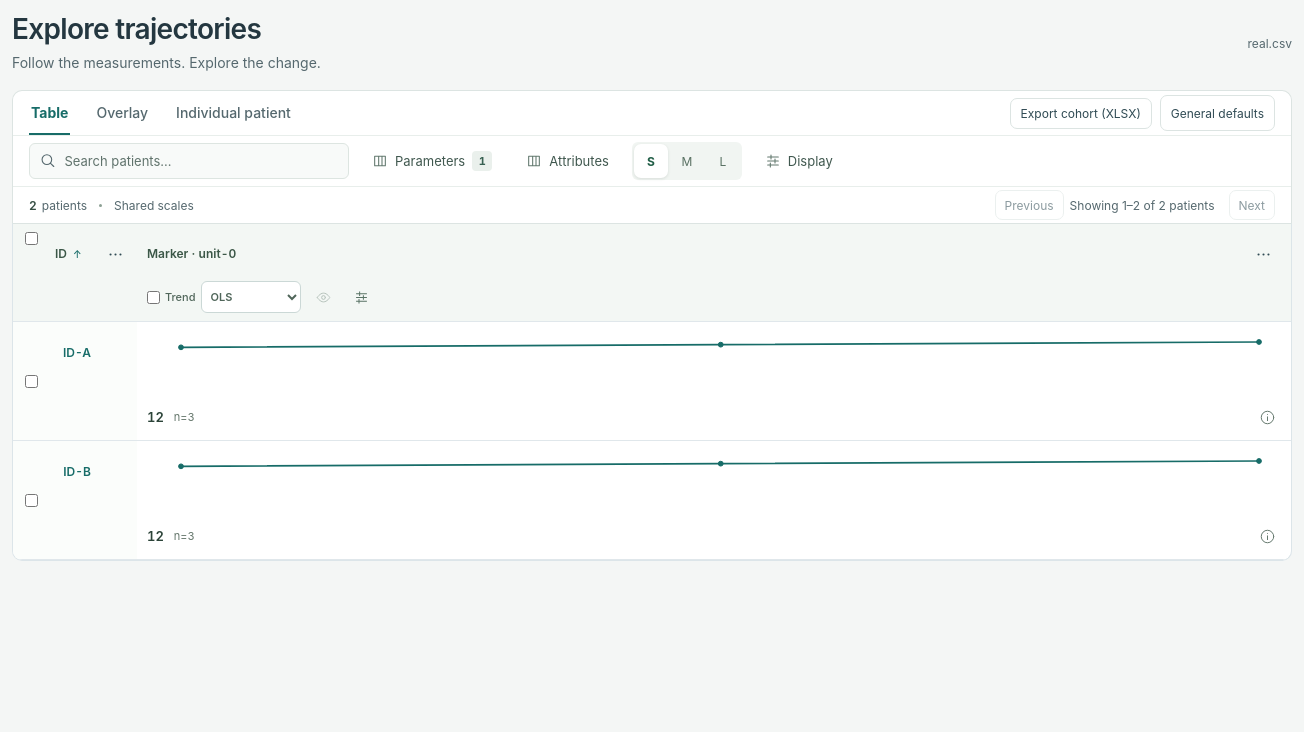
it: real-data trajectories workspace › supports compact cell details mode that condenses multi-line fit metadata into a single disclosure
Click the button "Display". click: click(799, 161)
box: [754,142,844,180]
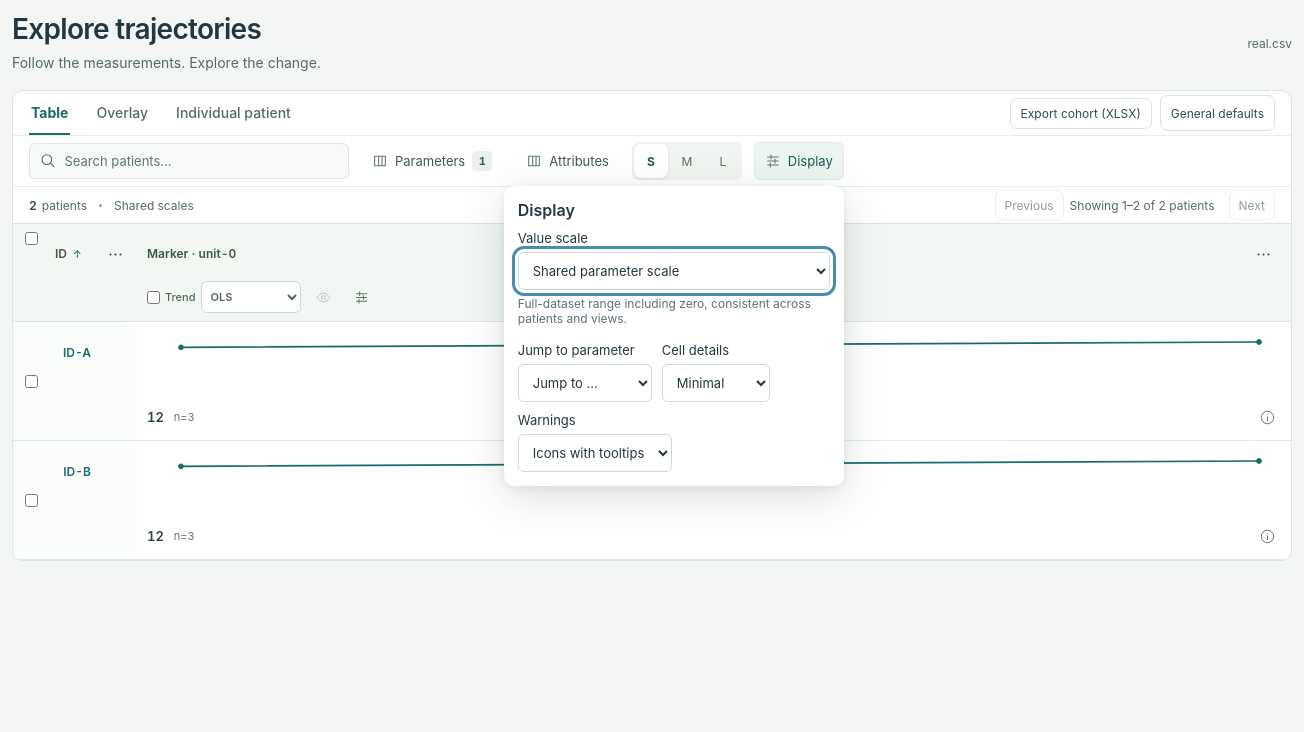
Select "Full details" in the dropdown labelled "Cell details". click: (716, 383)
box: [662,364,770,402]
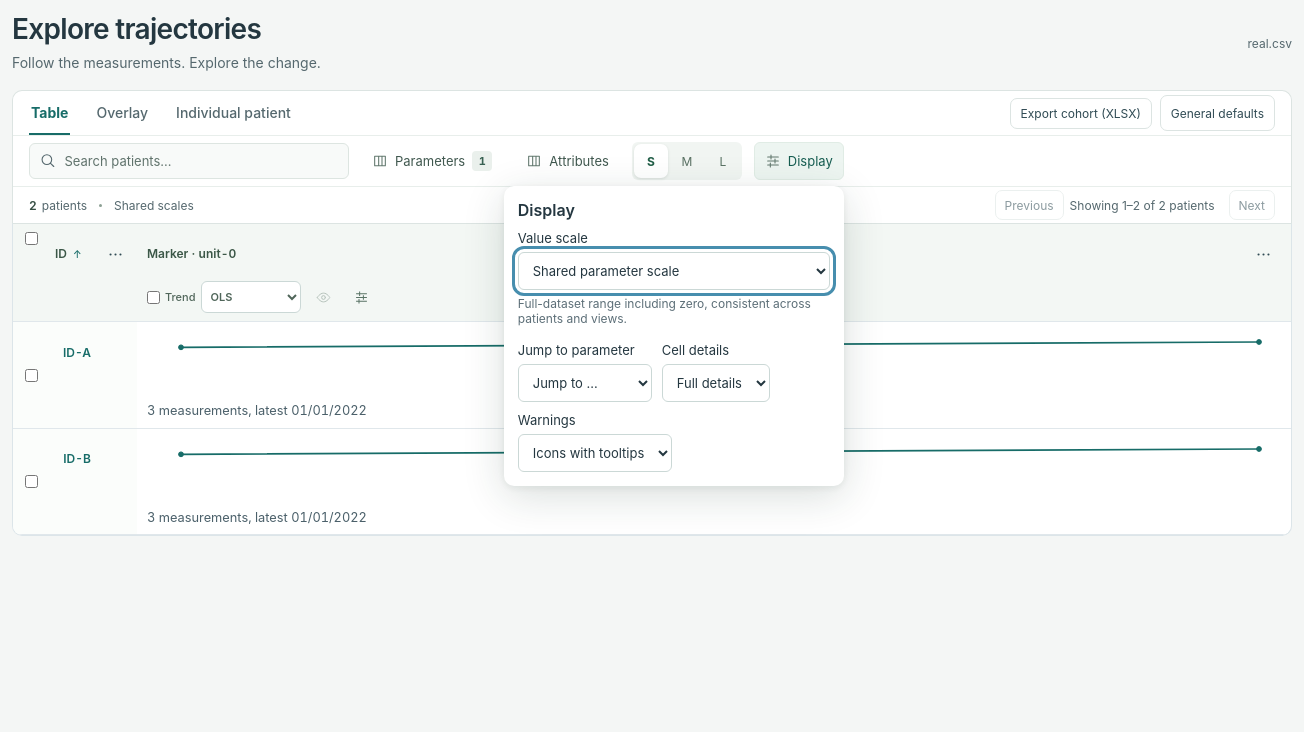
Click the button "Display". click: click(799, 161)
box: [754,142,844,180]
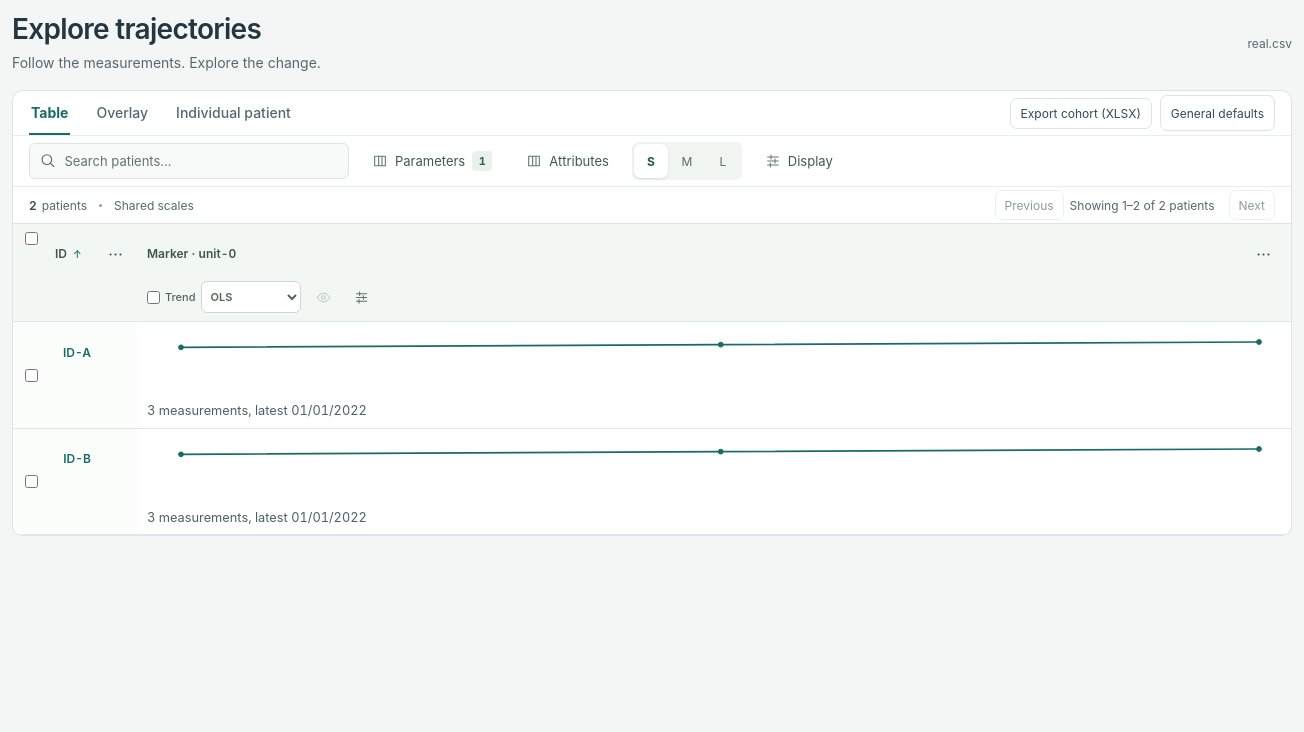
Click the checkbox named "Analyse trend: Marker · unit-0". click: click(154, 297)
box: [147,291,160,304]
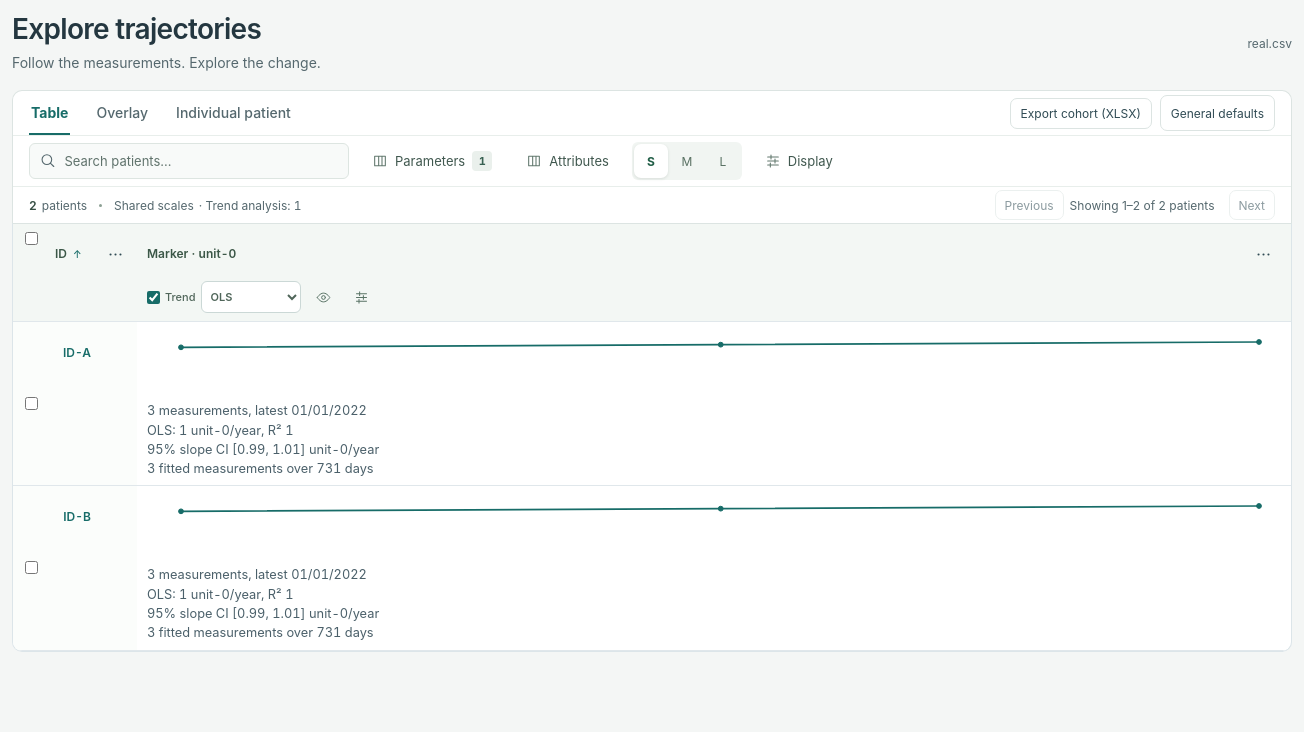
Now the row named "Open patient ID-A" shows "95% slope CI", box [147,442,379,457]
Click the button "Display". click: click(799, 161)
box: [754,142,844,180]
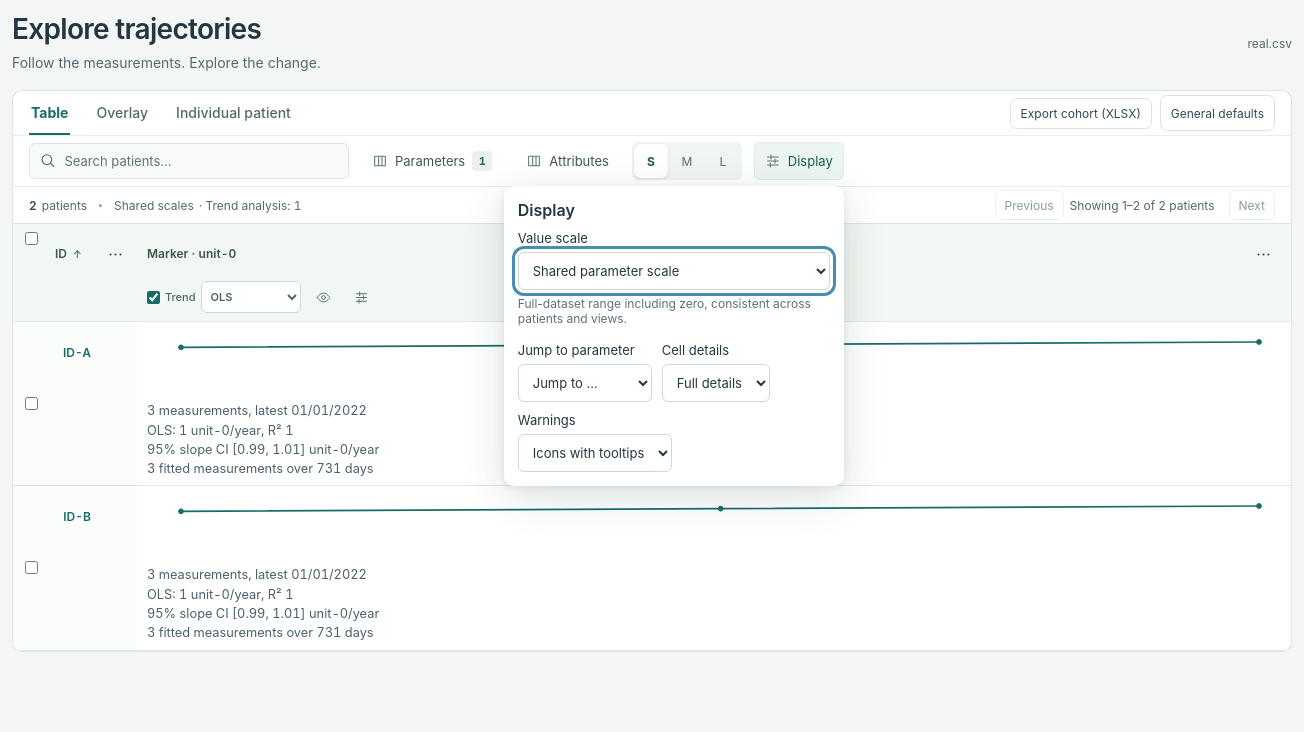
Select "Compact" in the dropdown labelled "Cell details". click: (716, 383)
box: [662,364,770,402]
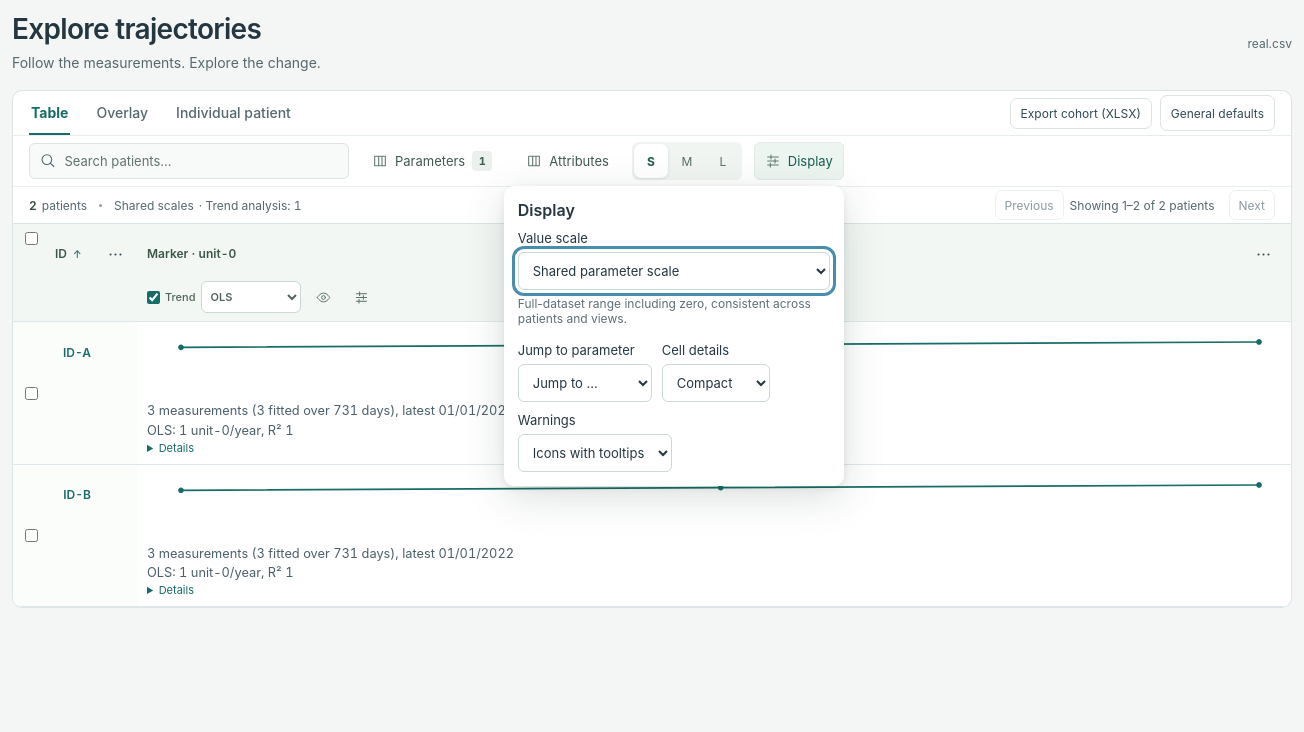
Now the 1st text "3 measurements (3 fitted over 731 days), latest 01/01/2022" is shown, box [147,403,514,418]
Now the 1st element with class "wt-compact-details" is shown, box [159,441,194,455]
